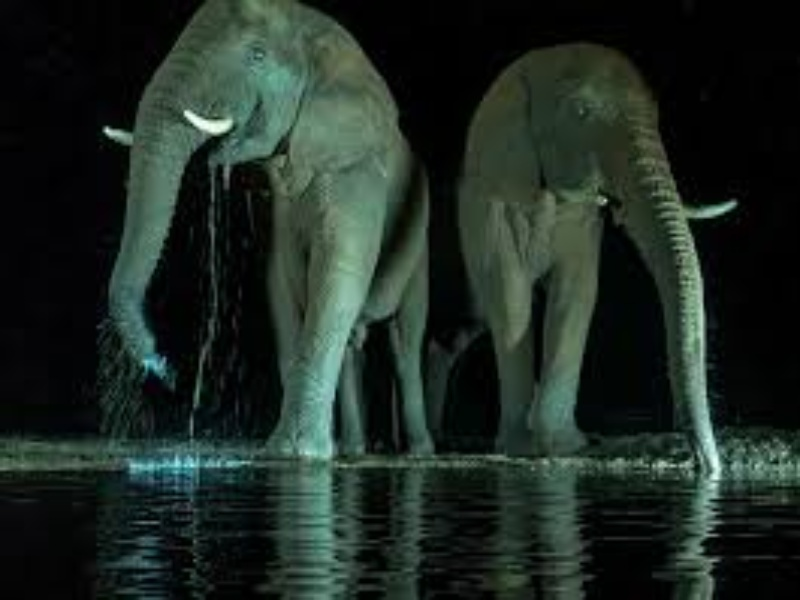elephant: (80, 13, 733, 494)
